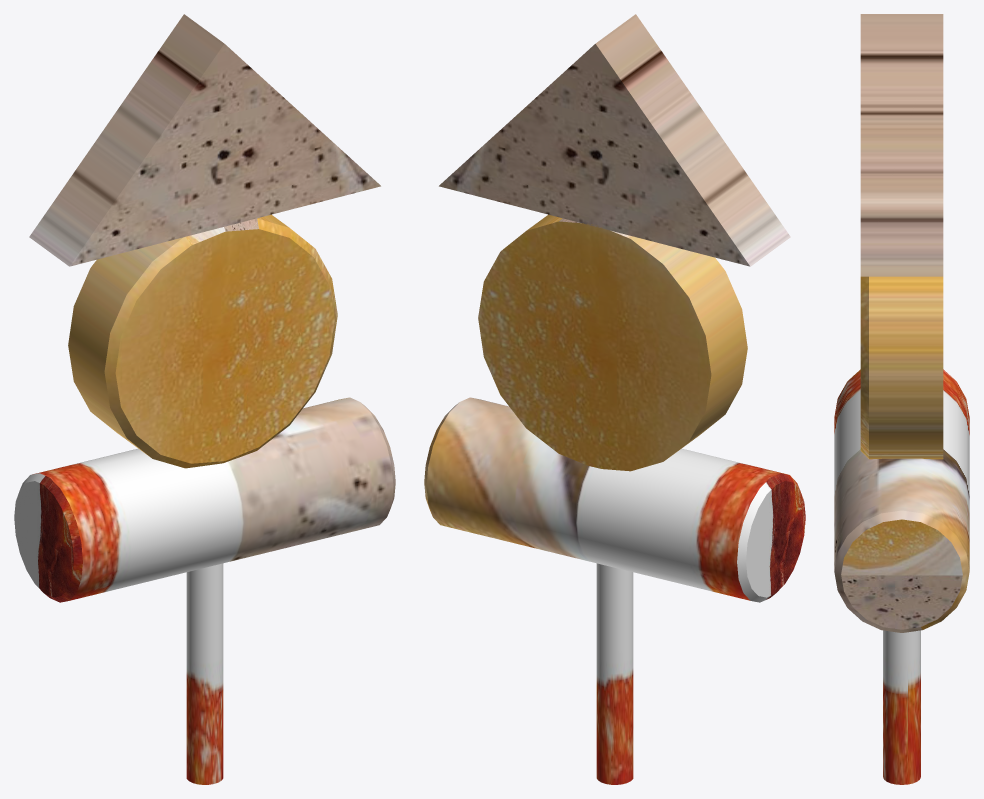
The model's file is oden.fbx.
3 views of the same model, side by side, from view 1: azimuth 30°, elevation 25°; view 2: azimuth 150°, elevation 25°; view 3: azimuth 270°, elevation 25° (orthographic).
Parts seen in each view (by area): view 1: pCylinder6; view 2: pCylinder6; view 3: pCylinder6.
Boxes of the visible parts, x1=… form: pCylinder6: x1=14, y1=14, x2=395, y2=784; pCylinder6: x1=424, y1=14, x2=805, y2=784; pCylinder6: x1=834, y1=14, x2=969, y2=784.
Size of the model in its own units: 2.76 by 6.13 by 0.986.
1 material, 1 textured.
